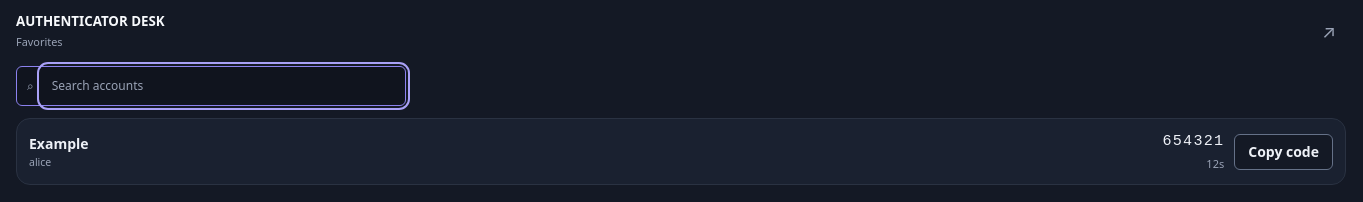
Test: favorite quick panel lock and visibility lifecycle › passes the displayed code as the guarded Copy expectation
Check: the text "654321" is shown, box [1162,131,1224,153]
Step 1. Click the button with aria-label "Copy code: Example alice" → (1284, 152), box [1234,134,1333,170]
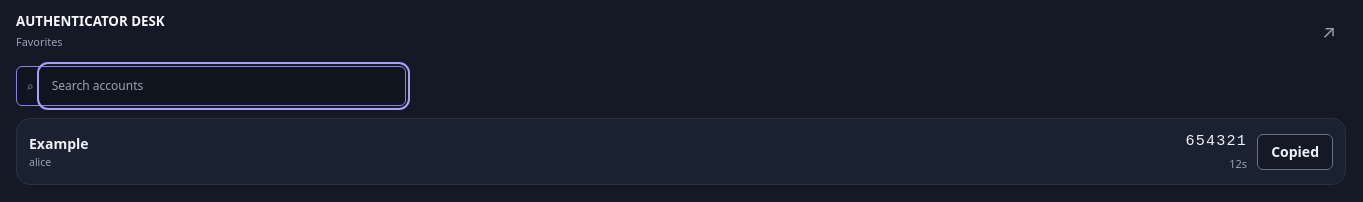
Check: the button with aria-label "Copied: Example alice" is shown, box [1257,134,1333,170]
